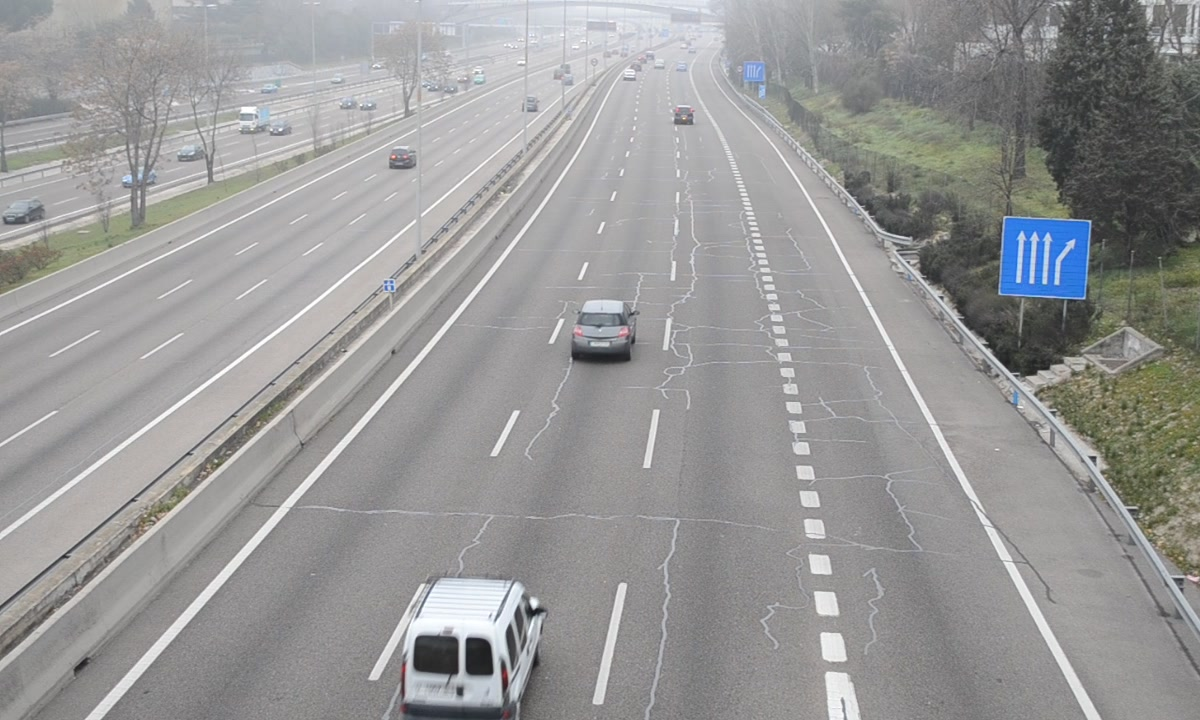car: (572, 298, 635, 356), (675, 104, 695, 126)
van: (400, 577, 545, 720)
